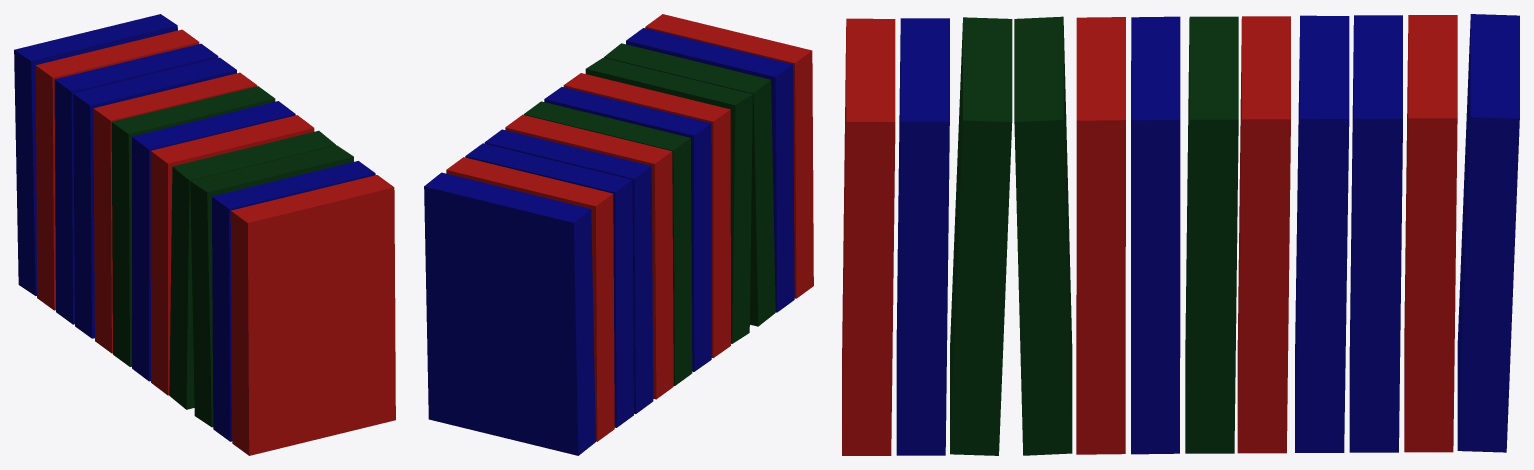
The model's file is isiShelf.obj.
The picture shows the model from 3 angles, left to right: view 1: azimuth 30°, elevation 25°; view 2: azimuth 150°, elevation 25°; view 3: azimuth 270°, elevation 25°; orthographic projection. The views are drawn at different scales.
Parts seen in each view (by area): view 1: Books_Cube.111; view 2: Books_Cube.111; view 3: Books_Cube.111.
Boxes of the visible parts, x1,y1,x2,y2 form: Books_Cube.111: [14, 14, 395, 455]; Books_Cube.111: [424, 14, 813, 455]; Books_Cube.111: [842, 14, 1519, 455].
Size of the model in its own units: 0.4419 by 0.6766 by 1.23.
